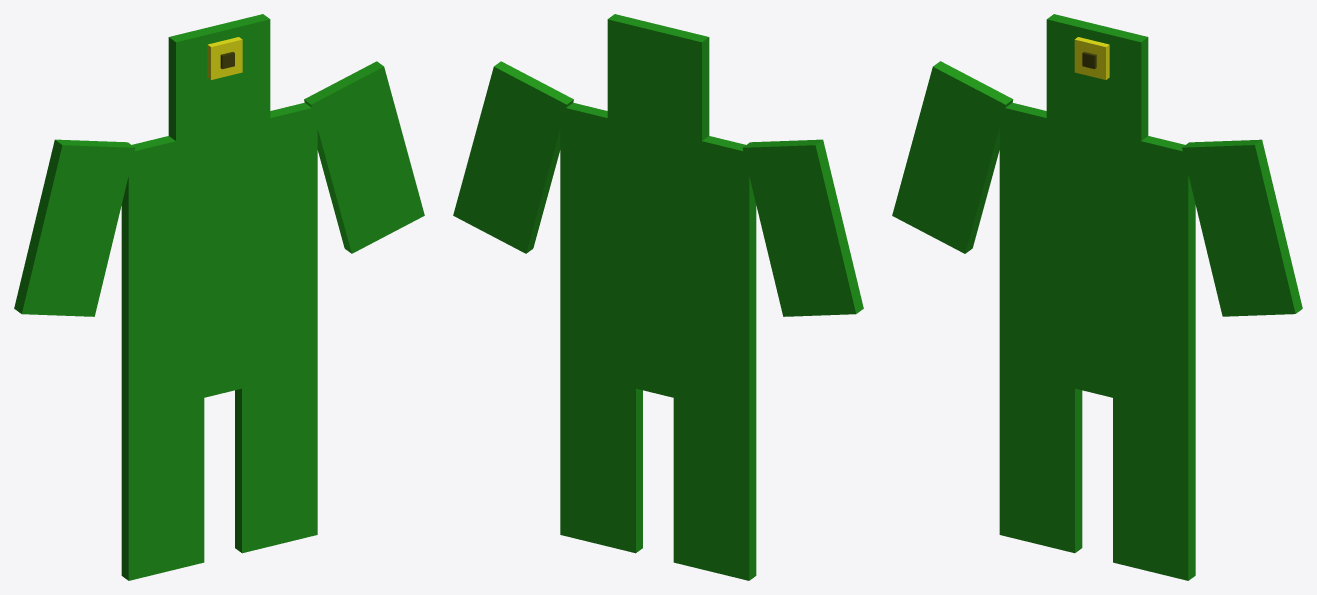
Rendered from AlianBoundary.fbx.
The picture shows the model from 3 angles, left to right: view 1: azimuth 30°, elevation 25°; view 2: azimuth 150°, elevation 25°; view 3: azimuth 330°, elevation 25°; orthographic projection.
Visible parts, largest first — view 1: Cube.001, Cube.003, Cube.002, Cube.005, Cube.004, Cube.006, Cube.007; view 2: Cube.001, Cube.004, Cube.006, Cube.002, Cube.003; view 3: Cube.001, Cube.004, Cube.005, Cube.006, Cube.003, Cube.007, Cube.002.
Part boxes in pixels (x1=…): Cube.001: x1=14, y1=14, x2=424, y2=580; Cube.003: x1=143, y1=398, x2=204, y2=573; Cube.002: x1=235, y1=371, x2=317, y2=553; Cube.005: x1=33, y1=145, x2=133, y2=315; Cube.004: x1=304, y1=79, x2=423, y2=253; Cube.006: x1=171, y1=14, x2=270, y2=125; Cube.007: x1=207, y1=37, x2=242, y2=79; Cube.001: x1=453, y1=14, x2=863, y2=580; Cube.004: x1=453, y1=72, x2=573, y2=253; Cube.006: x1=607, y1=16, x2=709, y2=140; Cube.002: x1=560, y1=380, x2=642, y2=552; Cube.003: x1=673, y1=398, x2=707, y2=569; Cube.001: x1=892, y1=14, x2=1302, y2=580; Cube.004: x1=1183, y1=145, x2=1294, y2=316; Cube.005: x1=892, y1=73, x2=1012, y2=253; Cube.006: x1=1047, y1=14, x2=1148, y2=140; Cube.003: x1=999, y1=375, x2=1082, y2=551; Cube.007: x1=1074, y1=37, x2=1109, y2=79; Cube.002: x1=1113, y1=398, x2=1154, y2=568.
Bounding box in the file's own units: 128 × 160 × 7.1.
